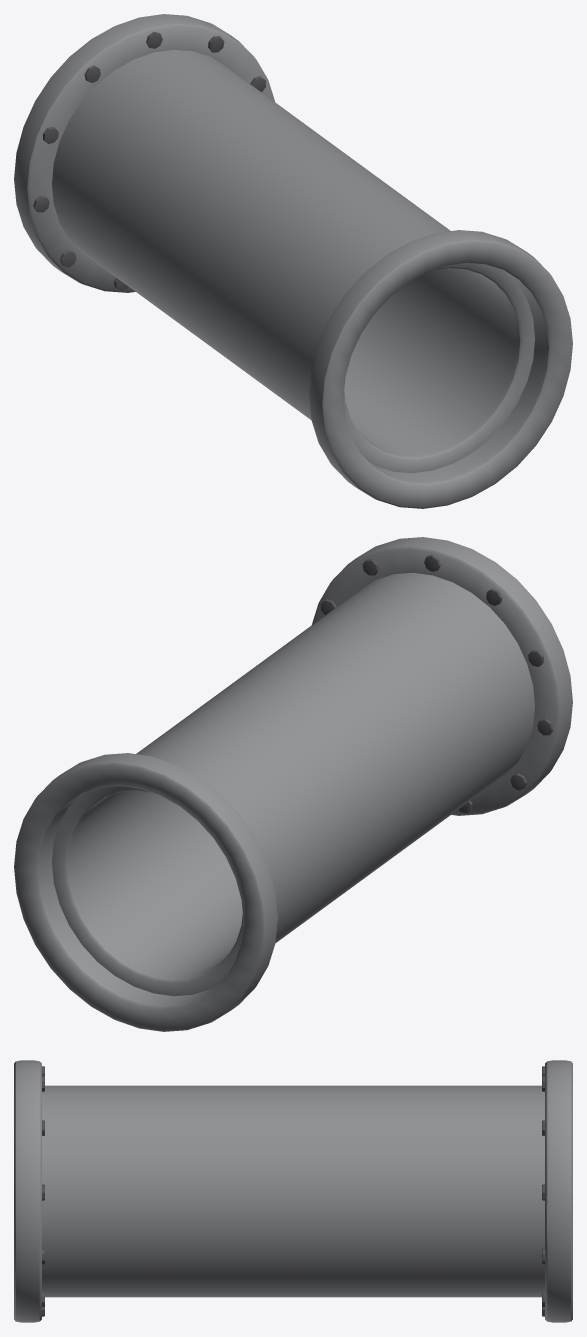
The picture shows the model from 3 angles, top to bottom: view 1: azimuth 30°, elevation 25°; view 2: azimuth 150°, elevation 25°; view 3: azimuth 270°, elevation 25°; orthographic projection. The views are drawn at different scales.
Visible parts, largest first — view 1: Pipe, Screws; view 2: Pipe, Screws; view 3: Pipe, Screws.
Boxes of the visible parts, x1,y1,x2,y2 form: Pipe: (14, 14, 572, 508); Screws: (33, 32, 265, 290); Pipe: (14, 537, 572, 1031); Screws: (321, 555, 553, 813); Pipe: (14, 1060, 572, 1322); Screws: (42, 1066, 544, 1316).
Size of the model in its own units: 2.48 by 2.48 by 5.28.
Materials: 2 (2 with a texture image).
